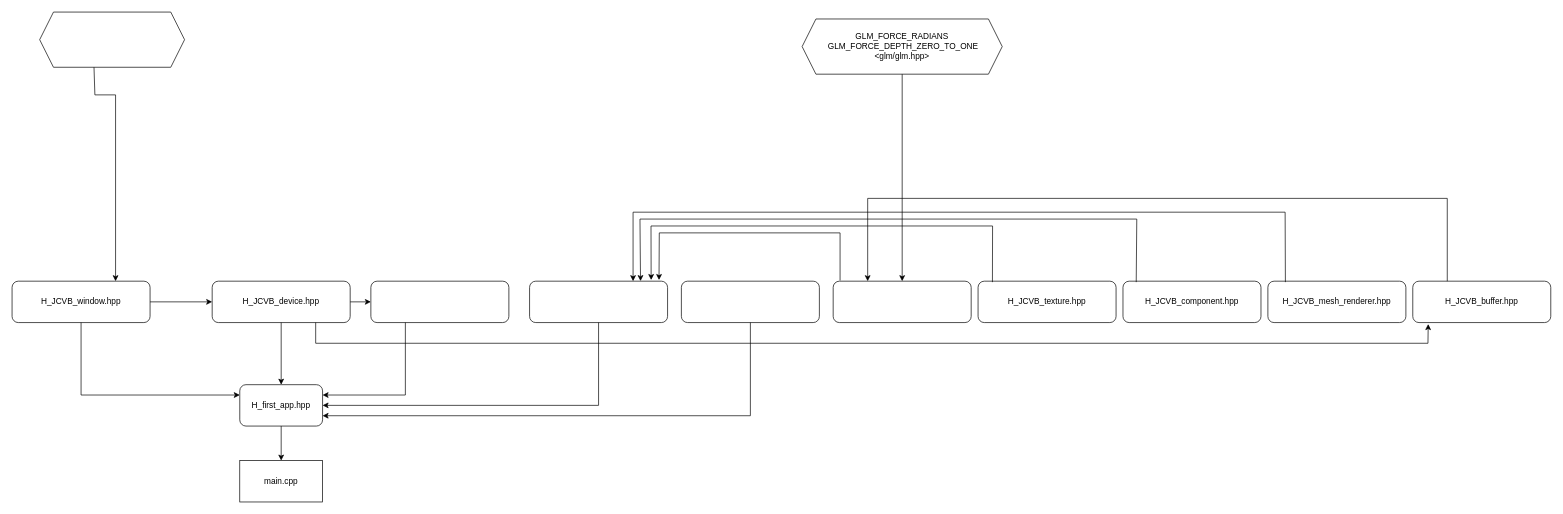
Image size: 1563x514. Some labels were removed from this diagram. Each missing label, with the box of its shape:
GLFW_INCLUDE_VULKAN <GLFW/glfw3.h>: (39, 11, 185, 67)
H_JCVB_descriptors.hpp: (370, 280, 509, 323)
H_JCVB_game_object.hpp: (529, 280, 668, 323)
H_JCVB_model.hpp: (832, 280, 971, 323)
H_JCVB_renderer.hpp: (681, 280, 819, 323)
